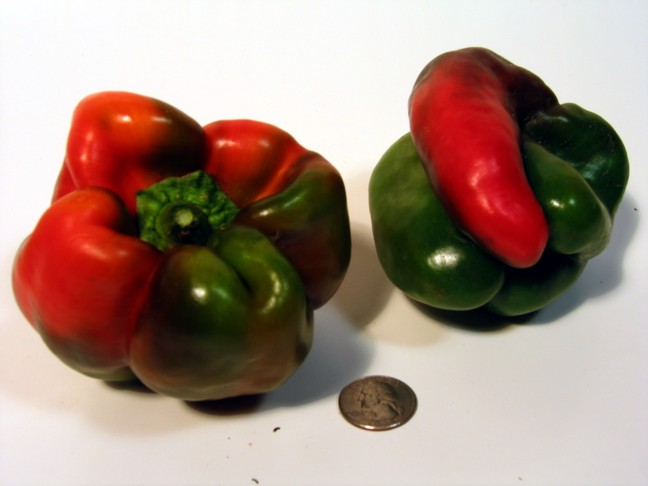capsicum: (10, 91, 352, 405), (367, 44, 628, 326)
